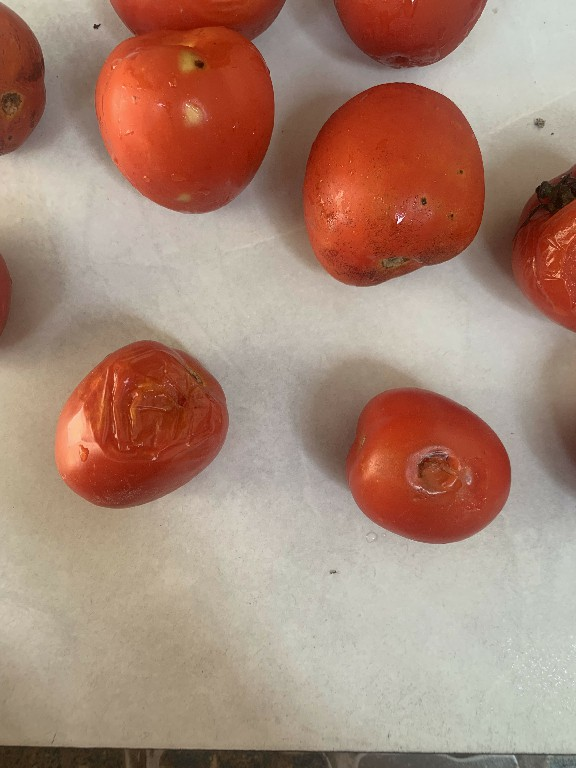NG: (300, 78, 496, 297), (40, 332, 245, 517), (94, 26, 282, 220), (331, 372, 524, 554)
